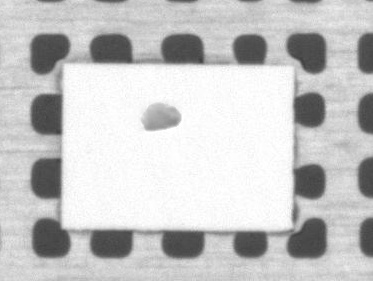DIE_INK: (141, 99, 181, 131)
